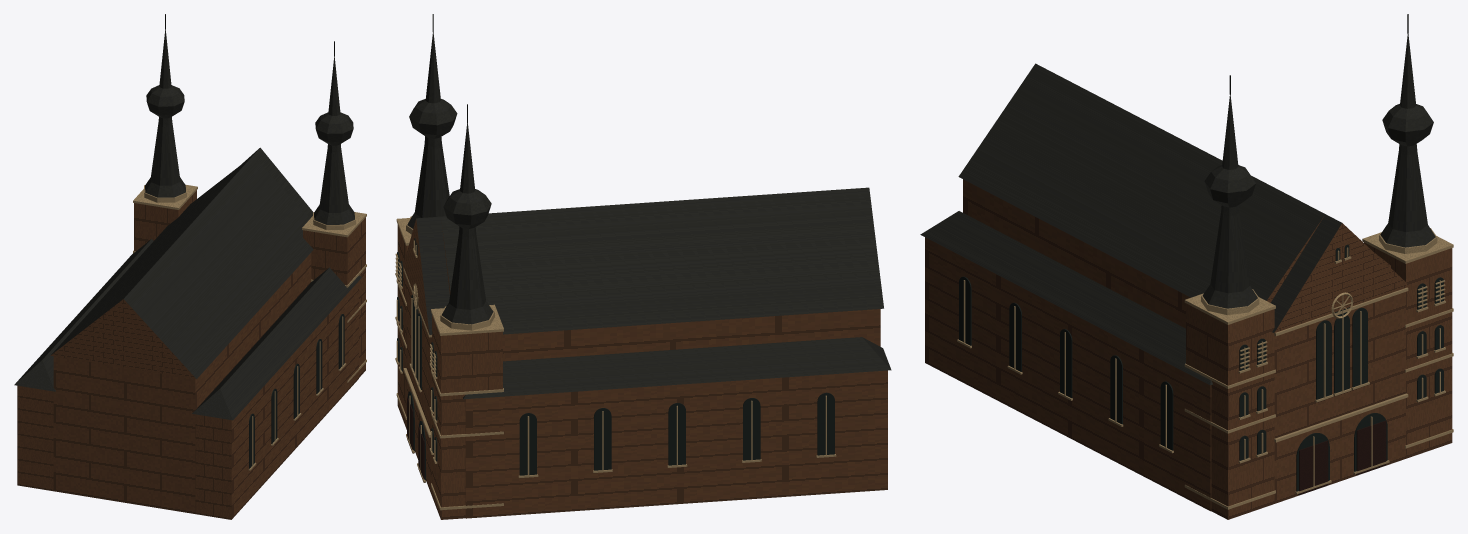
3 views of the same model, side by side, from view 1: azimuth 30°, elevation 25°; view 2: azimuth 150°, elevation 25°; view 3: azimuth 270°, elevation 25° (orthographic). The views are drawn at different scales.
Parts seen in each view (by area): view 1: nieuwe-westerkerk-ammanstraat-2, nieuwe-westerkerk-ammanstraat-1, nieuwe-westerkerk-ammanstraat-0, nieuwe-westerkerk-ammanstraat-3; view 2: nieuwe-westerkerk-ammanstraat-1, nieuwe-westerkerk-ammanstraat-2, nieuwe-westerkerk-ammanstraat-3, nieuwe-westerkerk-ammanstraat-0, nieuwe-westerkerk-ammanstraat-5; view 3: nieuwe-westerkerk-ammanstraat-2, nieuwe-westerkerk-ammanstraat-1, nieuwe-westerkerk-ammanstraat-3, nieuwe-westerkerk-ammanstraat-0, nieuwe-westerkerk-ammanstraat-5.
Boxes of the visible parts, <box> form: nieuwe-westerkerk-ammanstraat-2: <box>17,190,365,519</box>; nieuwe-westerkerk-ammanstraat-1: <box>14,30,361,420</box>; nieuwe-westerkerk-ammanstraat-0: <box>133,184,366,470</box>; nieuwe-westerkerk-ammanstraat-3: <box>249,314,344,468</box>; nieuwe-westerkerk-ammanstraat-1: <box>407,32,891,399</box>; nieuwe-westerkerk-ammanstraat-2: <box>397,219,887,519</box>; nieuwe-westerkerk-ammanstraat-3: <box>397,238,834,480</box>; nieuwe-westerkerk-ammanstraat-0: <box>395,216,836,510</box>; nieuwe-westerkerk-ammanstraat-5: <box>407,397,425,482</box>; nieuwe-westerkerk-ammanstraat-2: <box>925,179,1452,519</box>; nieuwe-westerkerk-ammanstraat-1: <box>920,34,1435,385</box>; nieuwe-westerkerk-ammanstraat-3: <box>959,244,1443,491</box>; nieuwe-westerkerk-ammanstraat-0: <box>957,228,1453,509</box>; nieuwe-westerkerk-ammanstraat-5: <box>1298,420,1386,495</box>.
Bounding box in the file's own units: 42.11 × 35.25 × 40.05.
Materials: 6 (6 with a texture image).
